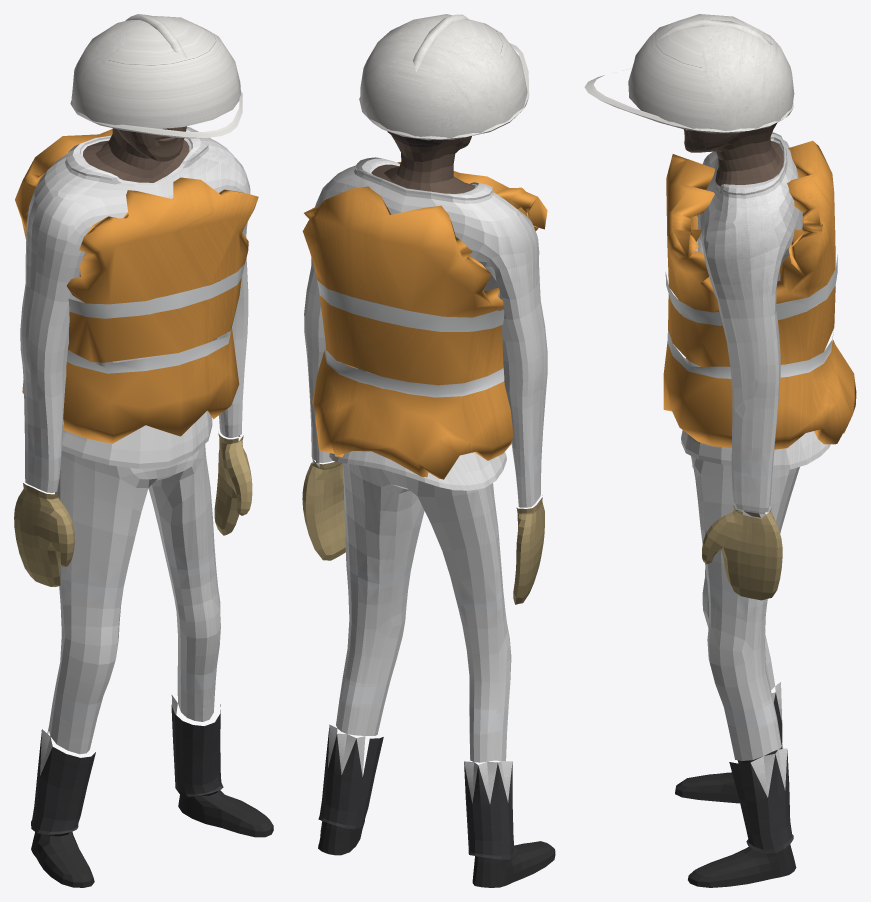
File: worker_lod2.glb
The picture shows the model from 3 angles, left to right: view 1: azimuth 30°, elevation 25°; view 2: azimuth 150°, elevation 25°; view 3: azimuth 270°, elevation 25°; orthographic projection. The views are drawn at different scales.
Visible parts, largest first — view 1: BaseHuman, LifeVest, HardHat; view 2: BaseHuman, LifeVest, HardHat; view 3: BaseHuman, LifeVest, HardHat.
Boxes of the visible parts, x1=… form: BaseHuman: x1=14, y1=126, x2=273, y2=887; LifeVest: x1=15, y1=129, x2=258, y2=443; HardHat: x1=70, y1=14, x2=242, y2=138; BaseHuman: x1=302, y1=131, x2=555, y2=887; LifeVest: x1=302, y1=162, x2=547, y2=479; HardHat: x1=359, y1=14, x2=529, y2=140; BaseHuman: x1=675, y1=123, x2=830, y2=887; LifeVest: x1=663, y1=140, x2=856, y2=449; HardHat: x1=584, y1=14, x2=794, y2=133.
Bounding box in the file's own units: 1.4 × 4.88 × 1.48.
11 materials, 5 textured.
